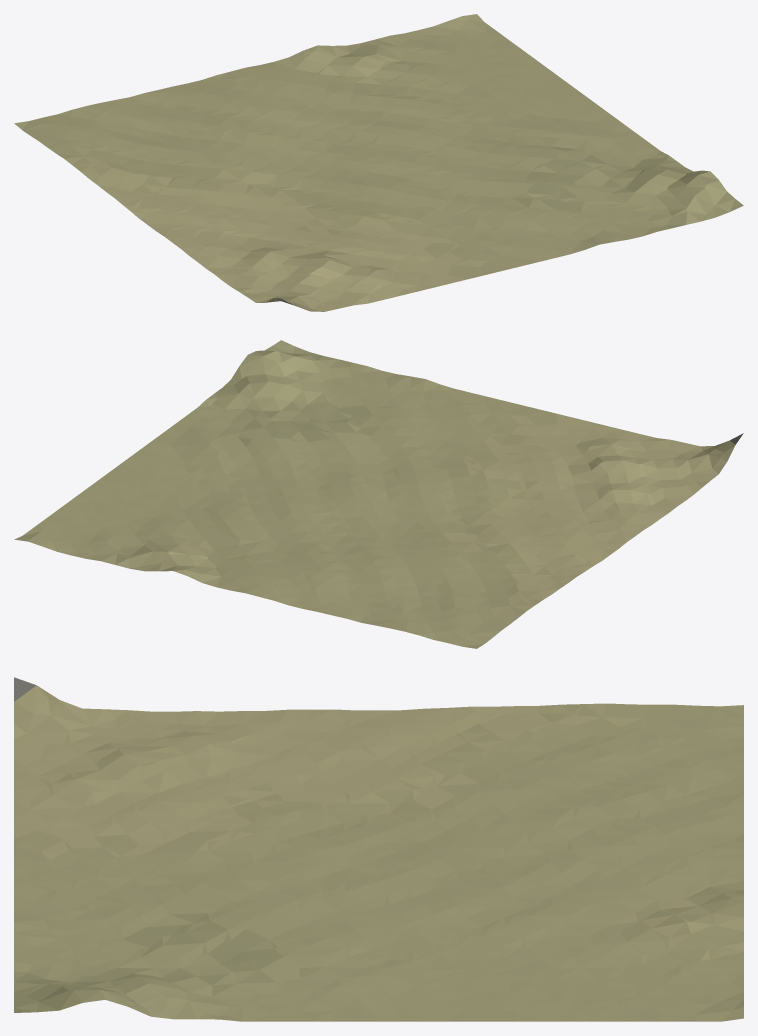
The model's file is Ground_6_-7.glb.
3 views of the same model, one above another, from view 1: azimuth 30°, elevation 25°; view 2: azimuth 150°, elevation 25°; view 3: azimuth 270°, elevation 25° (orthographic). The views are drawn at different scales.
Parts seen in each view (by area): view 1: Ground_6_-7; view 2: Ground_6_-7; view 3: Ground_6_-7.
Boxes of the visible parts, x1=… form: Ground_6_-7: x1=14, y1=14, x2=743, y2=311; Ground_6_-7: x1=14, y1=340, x2=743, y2=648; Ground_6_-7: x1=14, y1=677, x2=743, y2=1021.
Size of the model in its own units: 768 by 41.83 by 768.
